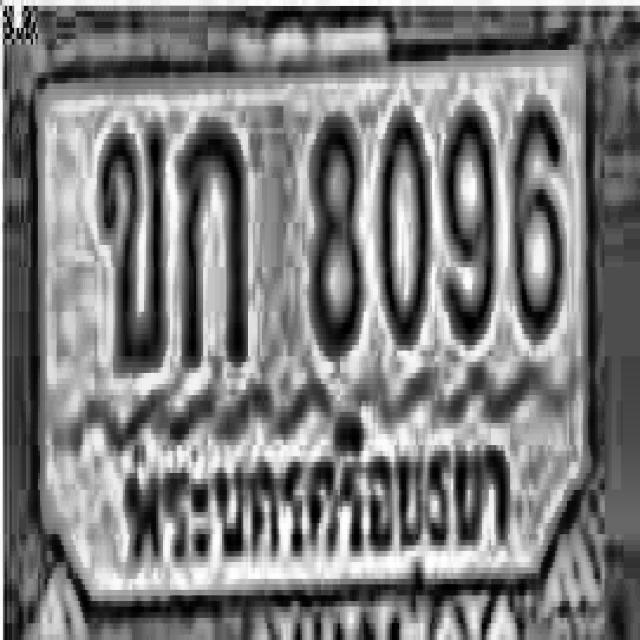license-plate: (2, 22, 640, 640)
